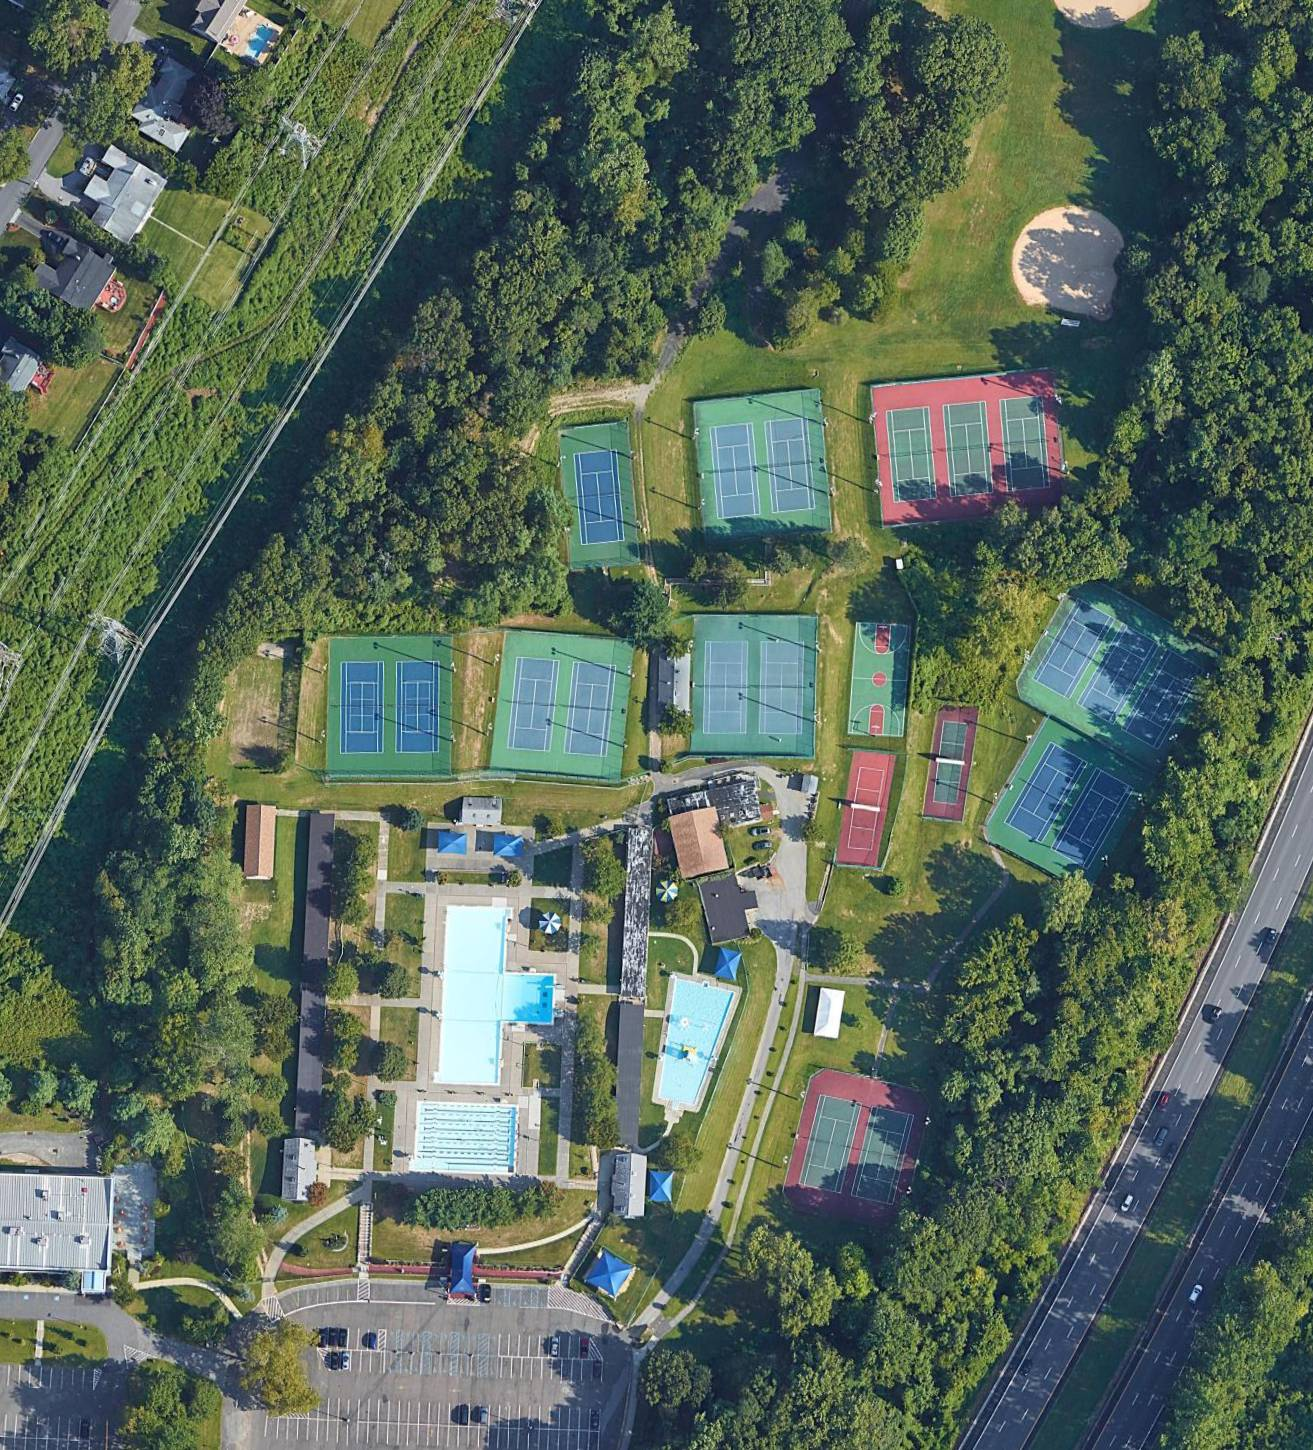basketball court: (847, 622, 911, 738)
swimming pool: (434, 905, 558, 1089), (637, 972, 736, 1118), (411, 1099, 520, 1174)
tennis court: (1076, 622, 1160, 726), (1003, 742, 1088, 844), (1031, 598, 1116, 700), (1051, 767, 1135, 870), (1121, 649, 1205, 752), (799, 1094, 863, 1194), (851, 1106, 914, 1206), (763, 416, 816, 513), (563, 662, 616, 758), (886, 406, 937, 505), (710, 423, 762, 520), (942, 401, 994, 498), (508, 657, 560, 753), (574, 449, 626, 545), (1000, 395, 1051, 490), (702, 641, 749, 734), (339, 661, 385, 754), (396, 661, 441, 753), (760, 642, 804, 734)
